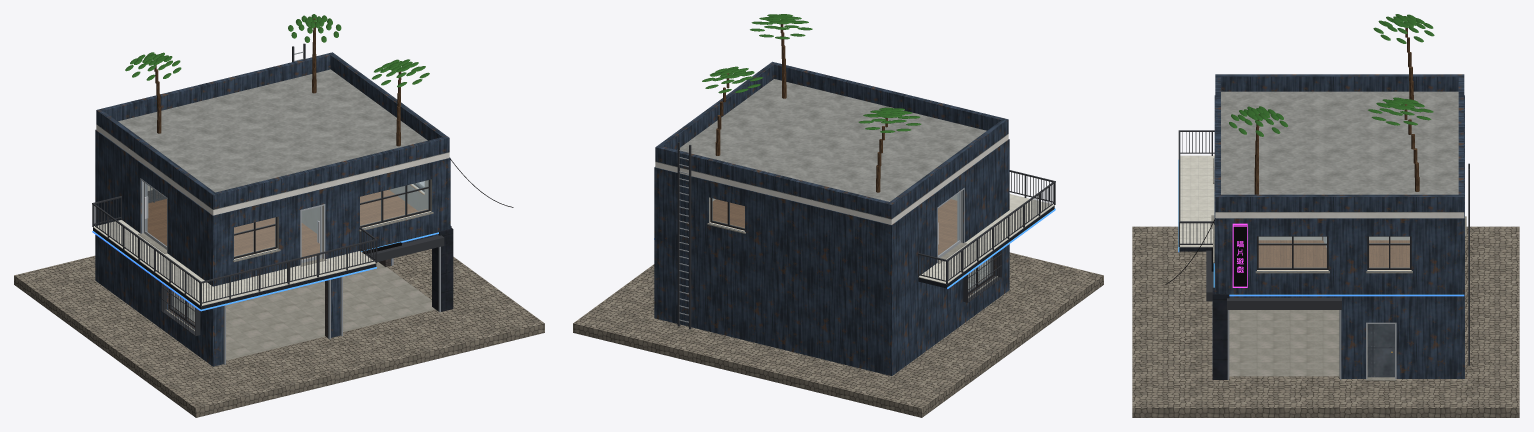
The model's file is b_shop_neon_corner.gltf.
3 views of the same model, side by side, from view 1: azimuth 30°, elevation 25°; view 2: azimuth 150°, elevation 25°; view 3: azimuth 270°, elevation 25° (orthographic). The views are drawn at different scales.
Visible parts, largest first — view 1: S_shop_neon_corner, D_shop_neon_corner_UF_W0_Door0, D_shop_neon_corner_UF_S1_Door0; view 2: S_shop_neon_corner, D_shop_neon_corner_UF_W0_Door0; view 3: S_shop_neon_corner, D_shop_neon_corner_GF_E1_Door0.
Part boxes in pixels (x1,y1,x2,y2): S_shop_neon_corner: [14, 14, 544, 417]; D_shop_neon_corner_UF_W0_Door0: [144, 182, 166, 249]; D_shop_neon_corner_UF_S1_Door0: [301, 206, 322, 262]; S_shop_neon_corner: [573, 14, 1103, 417]; D_shop_neon_corner_UF_W0_Door0: [938, 192, 960, 257]; S_shop_neon_corner: [1132, 14, 1519, 417]; D_shop_neon_corner_GF_E1_Door0: [1367, 324, 1394, 377].
Size of the model in its own units: 15.5 by 10.39 by 14.
29 materials, 15 textured.
